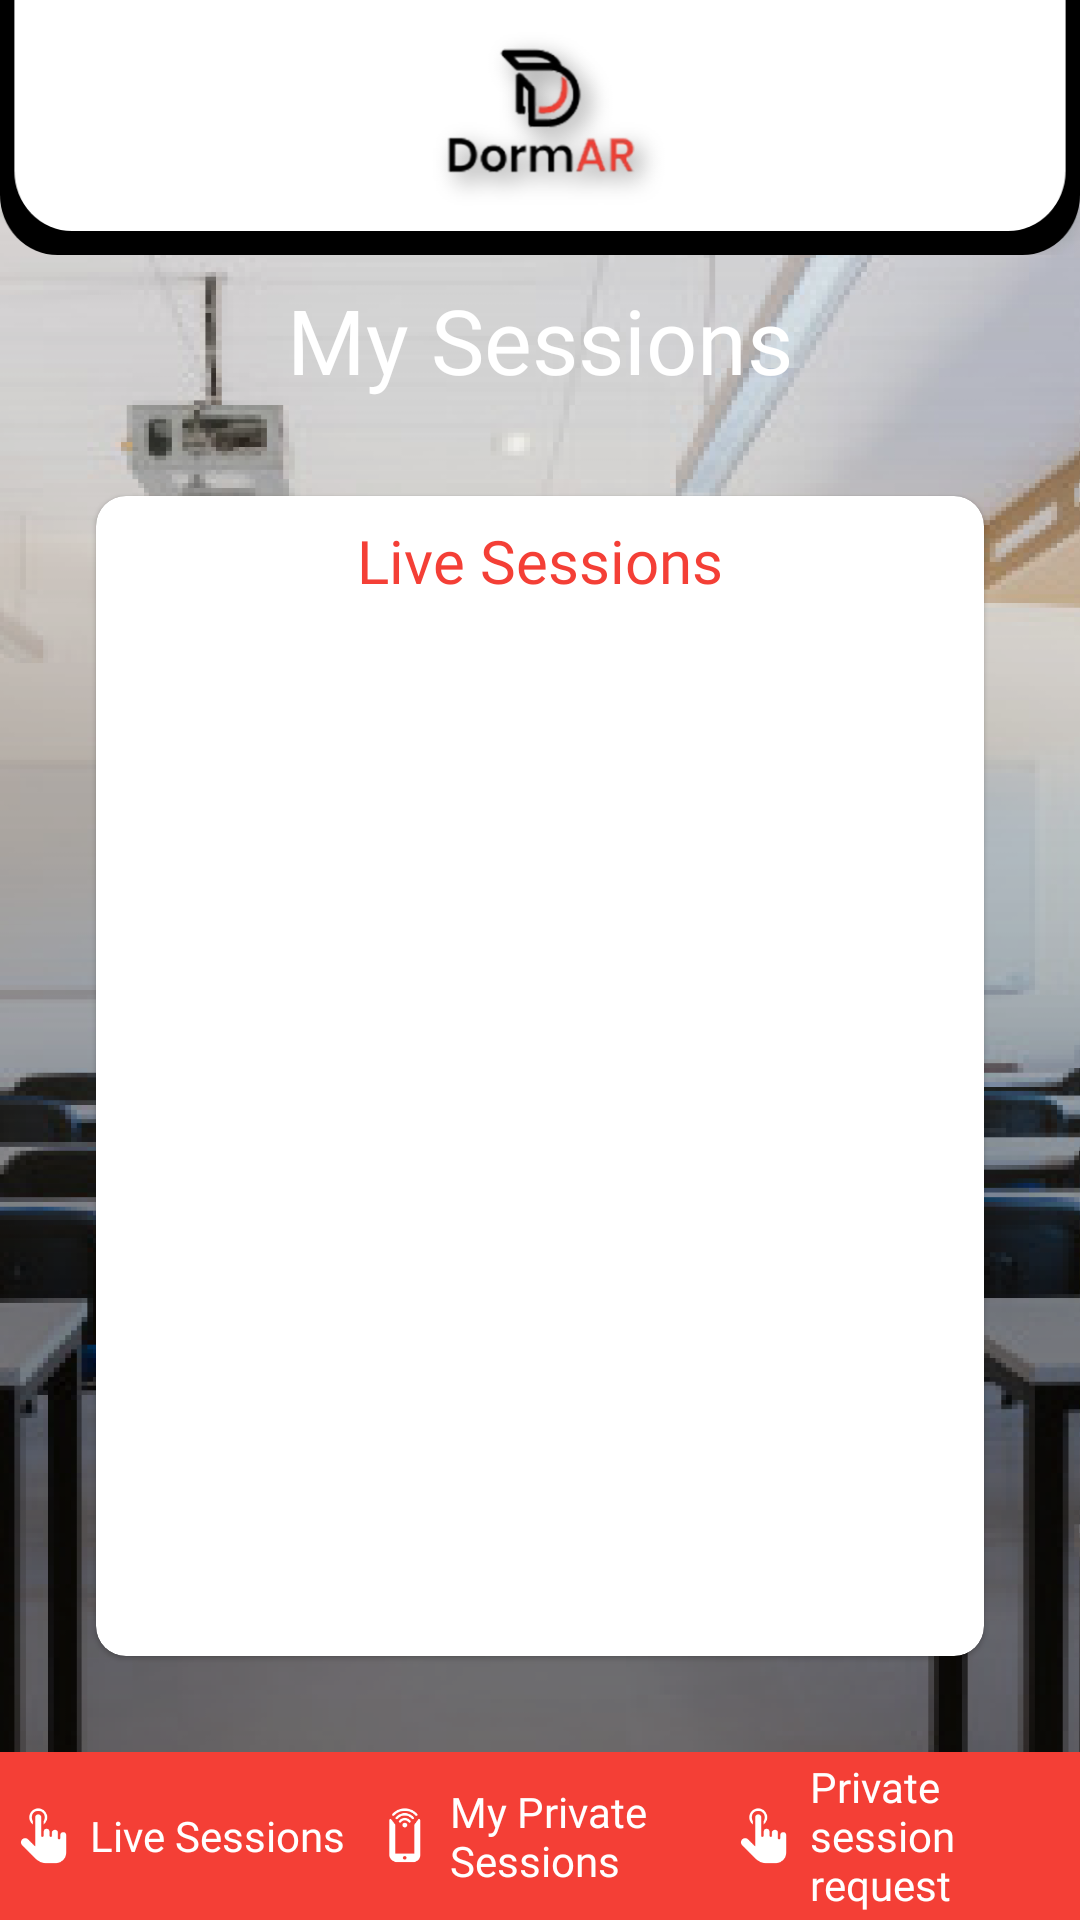

Where to tap for icons on this 1080px x 1920px app screen, as point (x, y):
mouse click: point (44, 1836), point (764, 1836)
